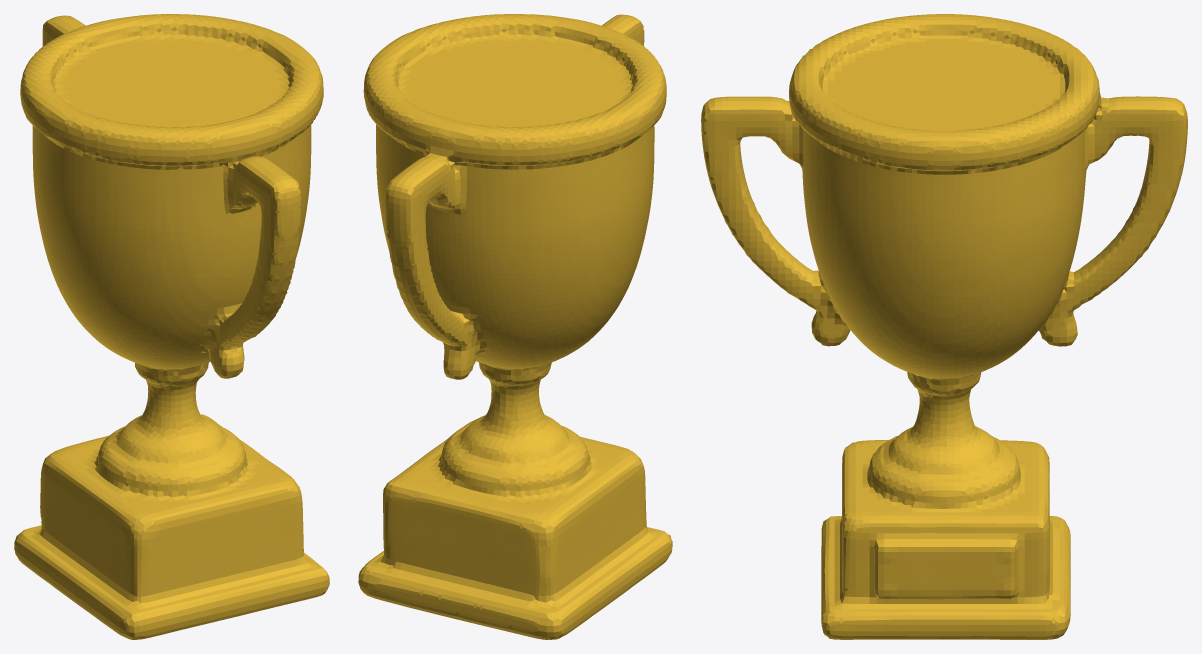
The model's file is trofeo.glb.
The picture shows the model from 3 angles, left to right: view 1: azimuth 30°, elevation 25°; view 2: azimuth 150°, elevation 25°; view 3: azimuth 270°, elevation 25°; orthographic projection. The views are drawn at different scales.
Visible parts, largest first — view 1: tripo_node_bd7f4ca3-765a-4887-8b45-a53f794833a4; view 2: tripo_node_bd7f4ca3-765a-4887-8b45-a53f794833a4; view 3: tripo_node_bd7f4ca3-765a-4887-8b45-a53f794833a4.
Boxes of the visible parts, left/top/right/bottom form: tripo_node_bd7f4ca3-765a-4887-8b45-a53f794833a4: left=14, top=14, right=329, bottom=639; tripo_node_bd7f4ca3-765a-4887-8b45-a53f794833a4: left=358, top=14, right=672, bottom=639; tripo_node_bd7f4ca3-765a-4887-8b45-a53f794833a4: left=701, top=14, right=1187, bottom=639.
Size of the model in its own units: 0.3843 by 0.7053 by 0.6.
